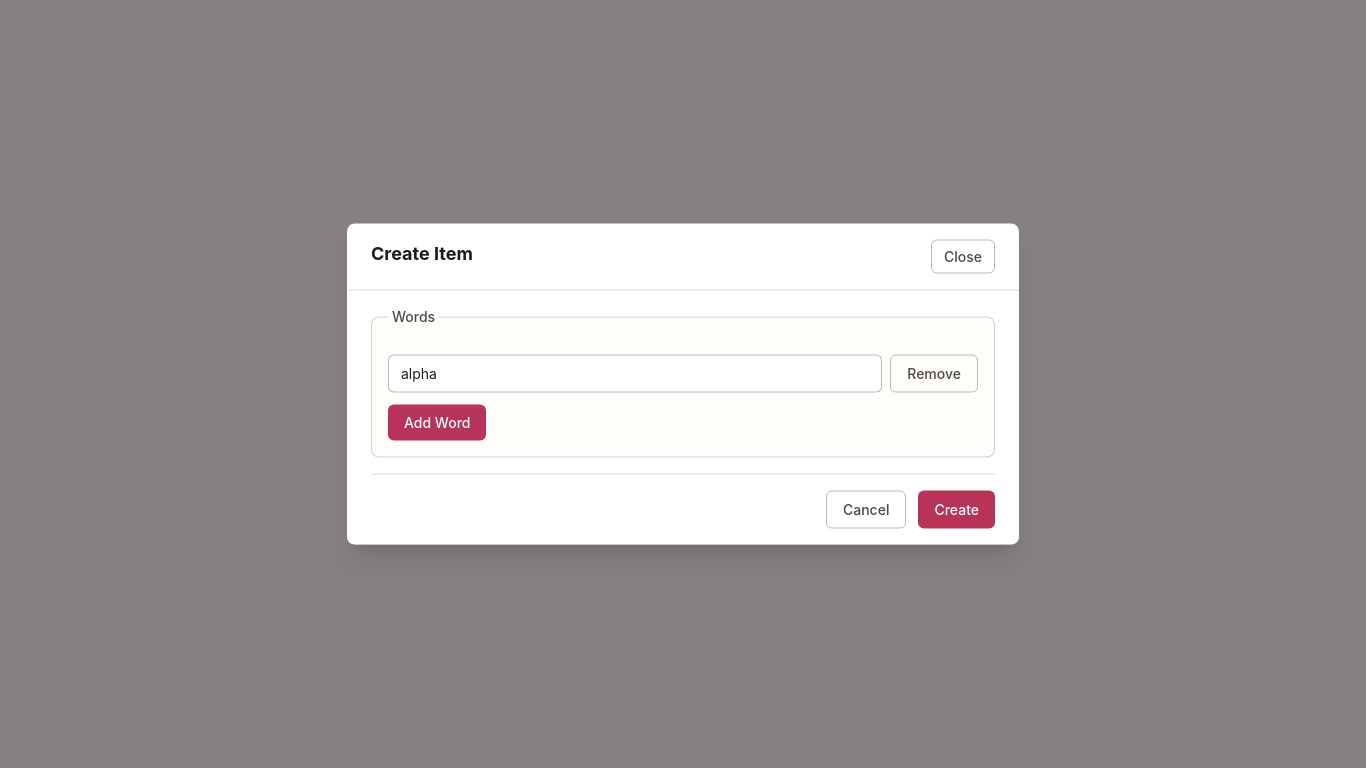
EditorDialog array fields › uses normalized test IDs for single-field array rows
Expected: the field with test id "editor-dialog-field-words-0" is shown, [388,354,882,392]
Click the button with test id "editor-dialog-add-words". click: (437, 422)
box: [388,404,486,440]
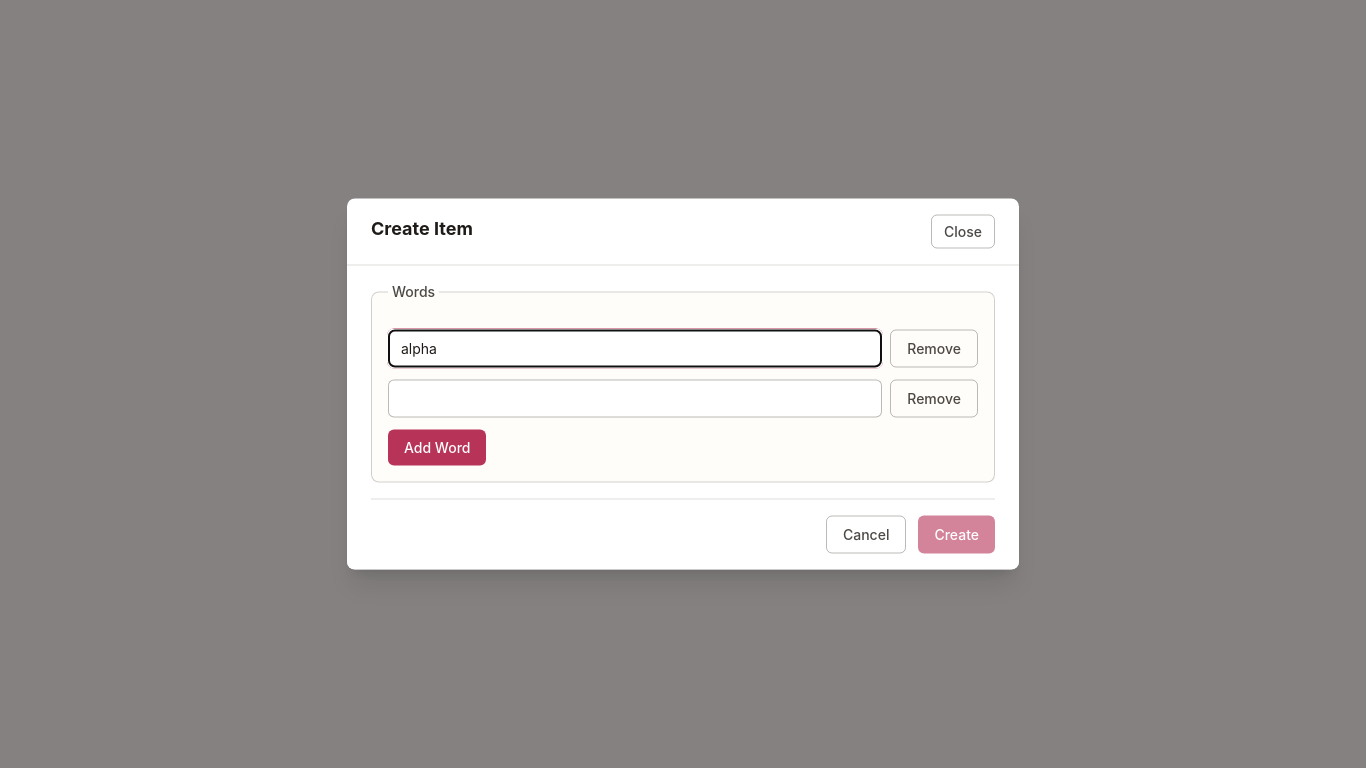
Now the field with test id "editor-dialog-field-words-1" is shown, box [388,380,882,418]
